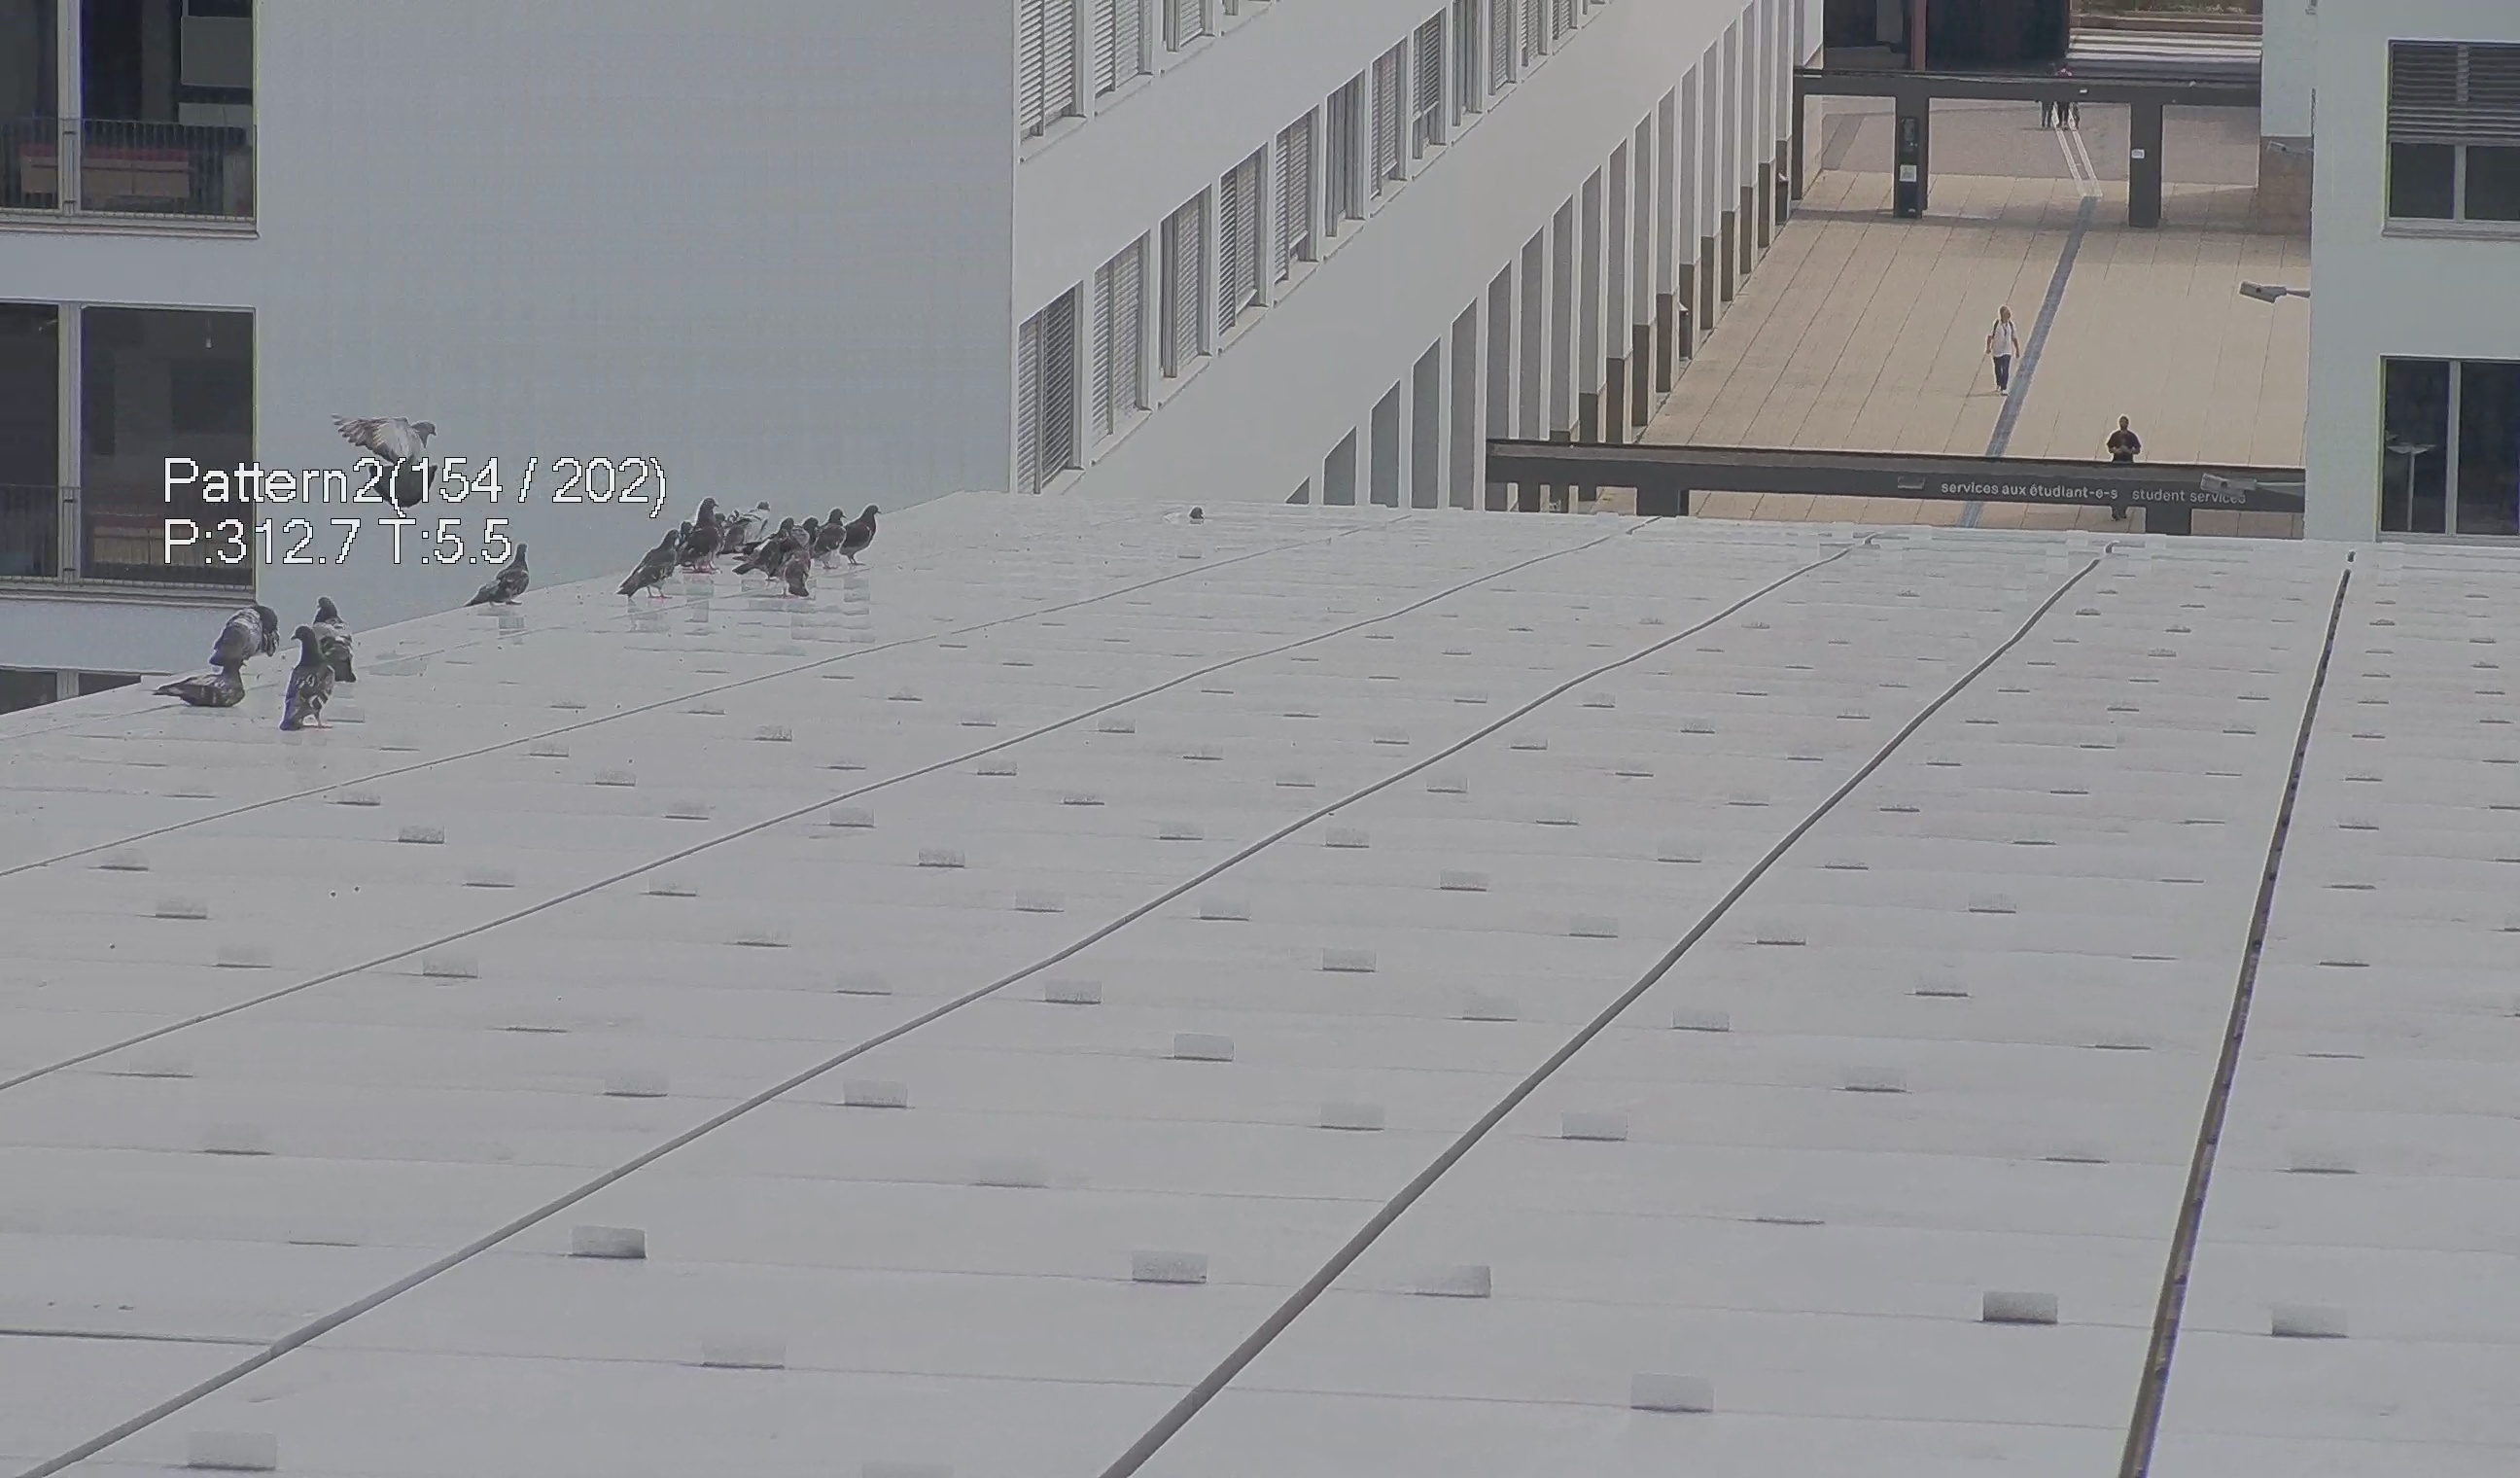Pigeon: (269, 623, 343, 741), (151, 651, 259, 723), (336, 413, 454, 473), (301, 591, 361, 684), (468, 540, 533, 621), (617, 524, 682, 602), (209, 598, 278, 662), (682, 493, 730, 575), (740, 519, 797, 579), (776, 533, 819, 604), (844, 500, 888, 547), (730, 496, 770, 547), (814, 505, 846, 561), (793, 512, 823, 549), (1182, 500, 1212, 523)
